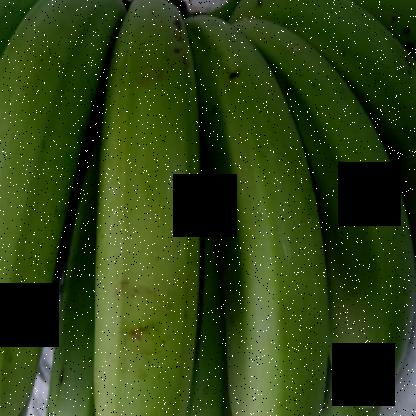freshunripe: (174, 1, 328, 415), (0, 1, 126, 415), (82, 1, 202, 415), (300, 39, 415, 406)
